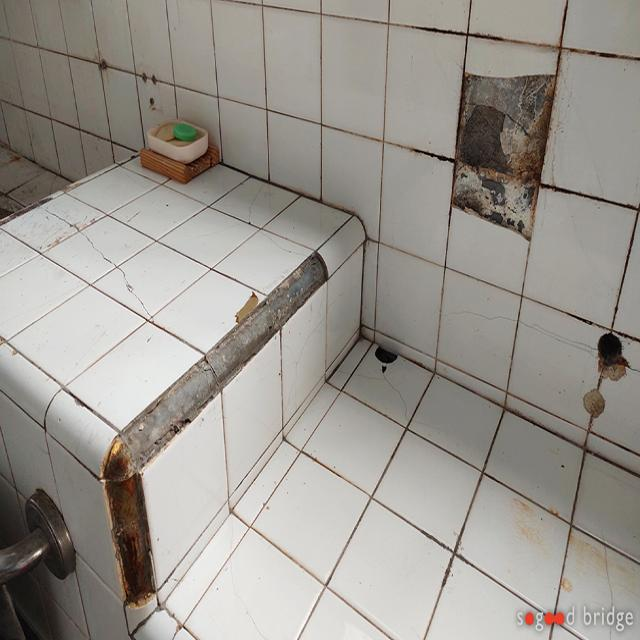Crack: (35, 203, 155, 324), (445, 311, 640, 372), (335, 367, 443, 435), (284, 314, 327, 414), (601, 527, 616, 640), (262, 231, 309, 258), (249, 181, 272, 222)
tile: (120, 250, 328, 472), (452, 72, 556, 243), (103, 435, 157, 607)
